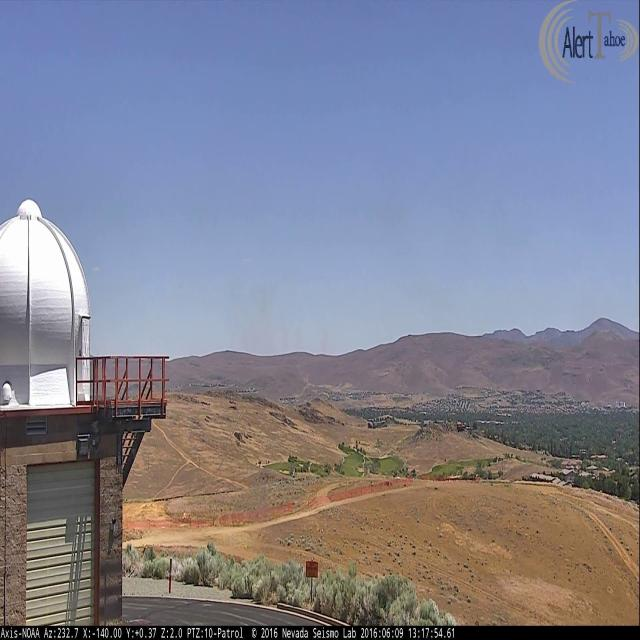smoke: (225, 285, 331, 356)
